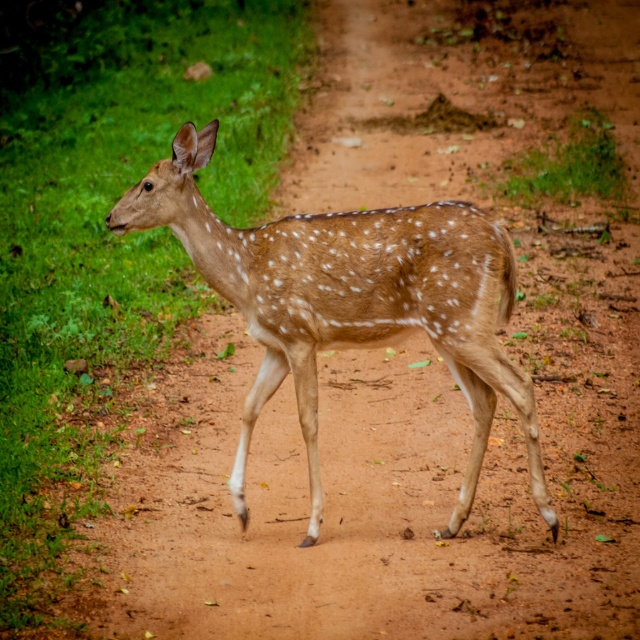Deer: (102, 121, 561, 544)
